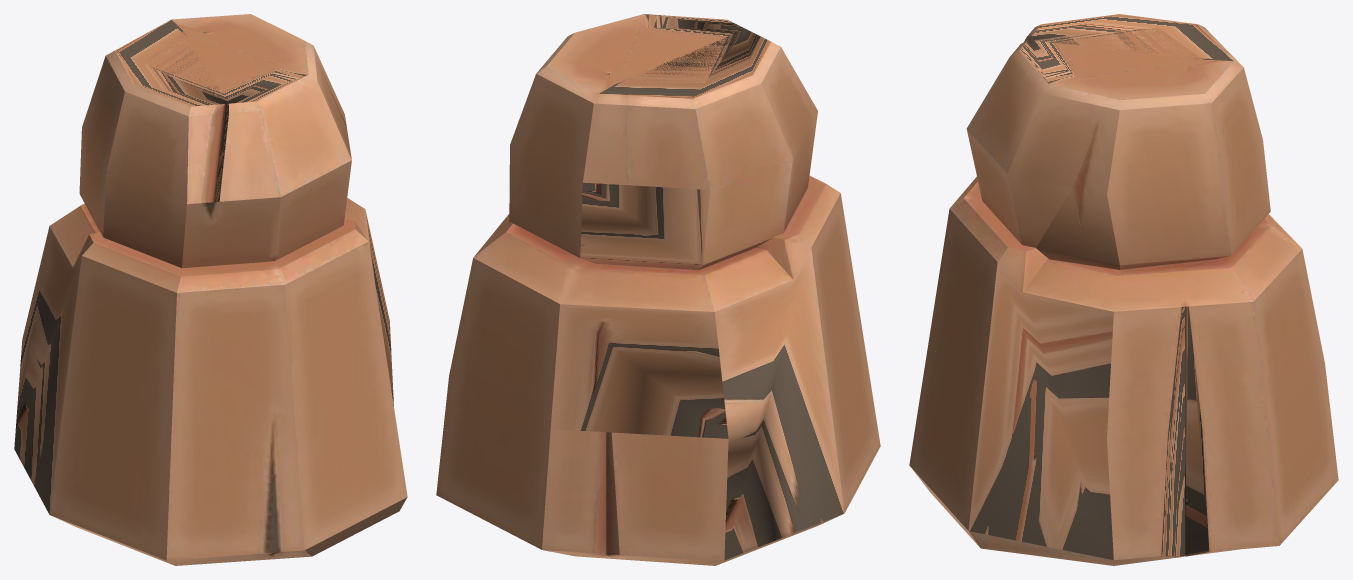
File: desert-rock-04.glb
3 renders of one model, left to right at view 1: azimuth 30°, elevation 25°; view 2: azimuth 150°, elevation 25°; view 3: azimuth 270°, elevation 25°, orthographic. The views are drawn at different scales.
Parts seen in each view (by area): view 1: Rock_14; view 2: Rock_14; view 3: Rock_14.
Boxes of the visible parts, x1,y1,x2,y2 form: Rock_14: [14, 14, 407, 565]; Rock_14: [436, 14, 880, 565]; Rock_14: [909, 14, 1338, 565].
Bounding box in the file's own units: 1.95 × 2.3 × 2.05.
Materials: 1 (1 with a texture image).
